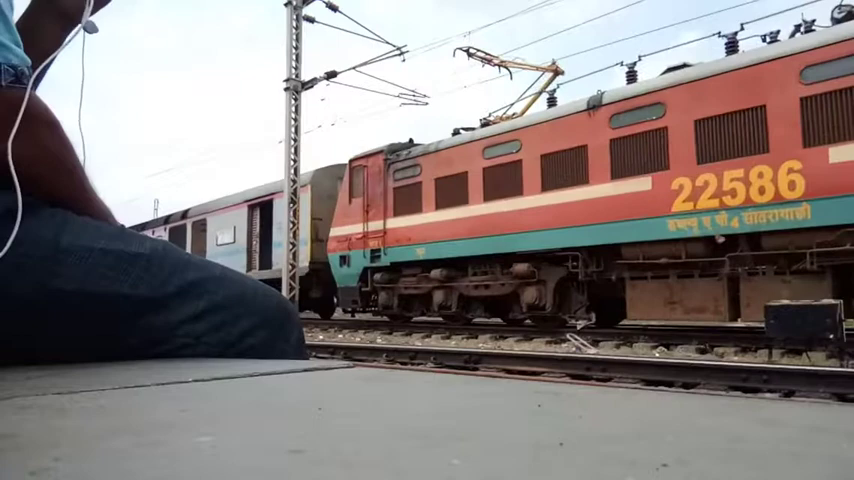Boogie: (660, 159, 824, 217)
